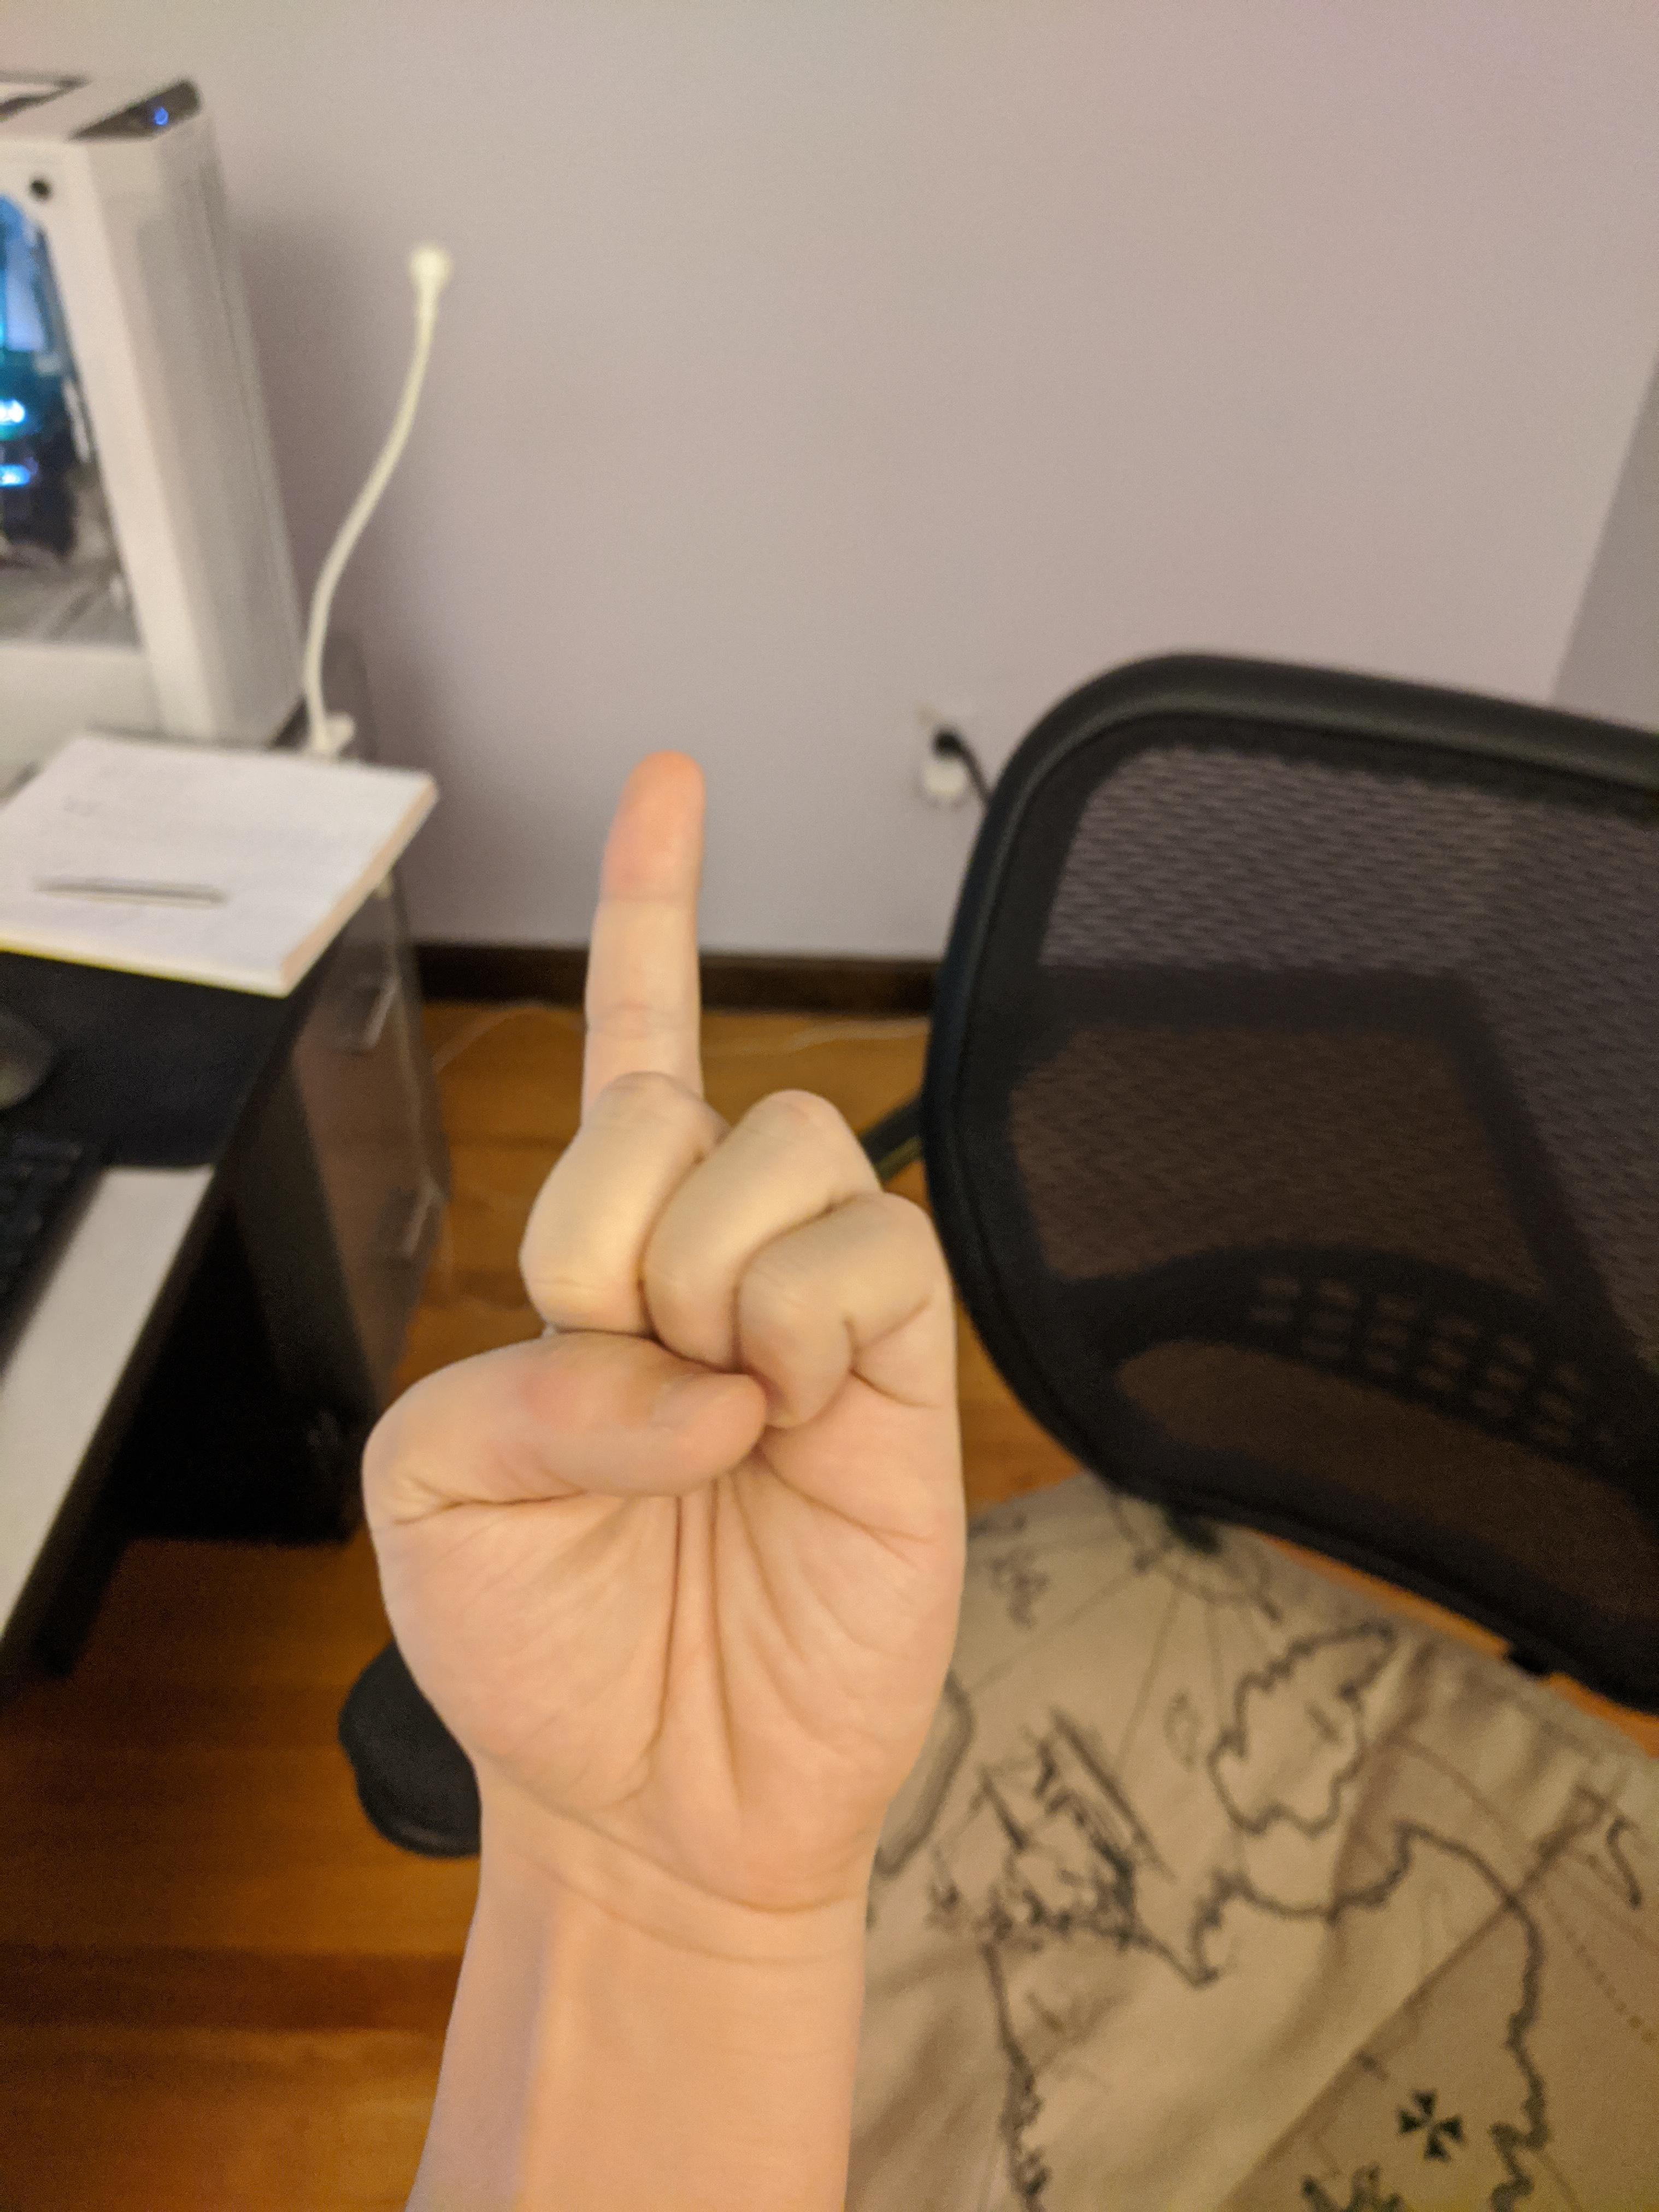D: (343, 730, 997, 1949)
